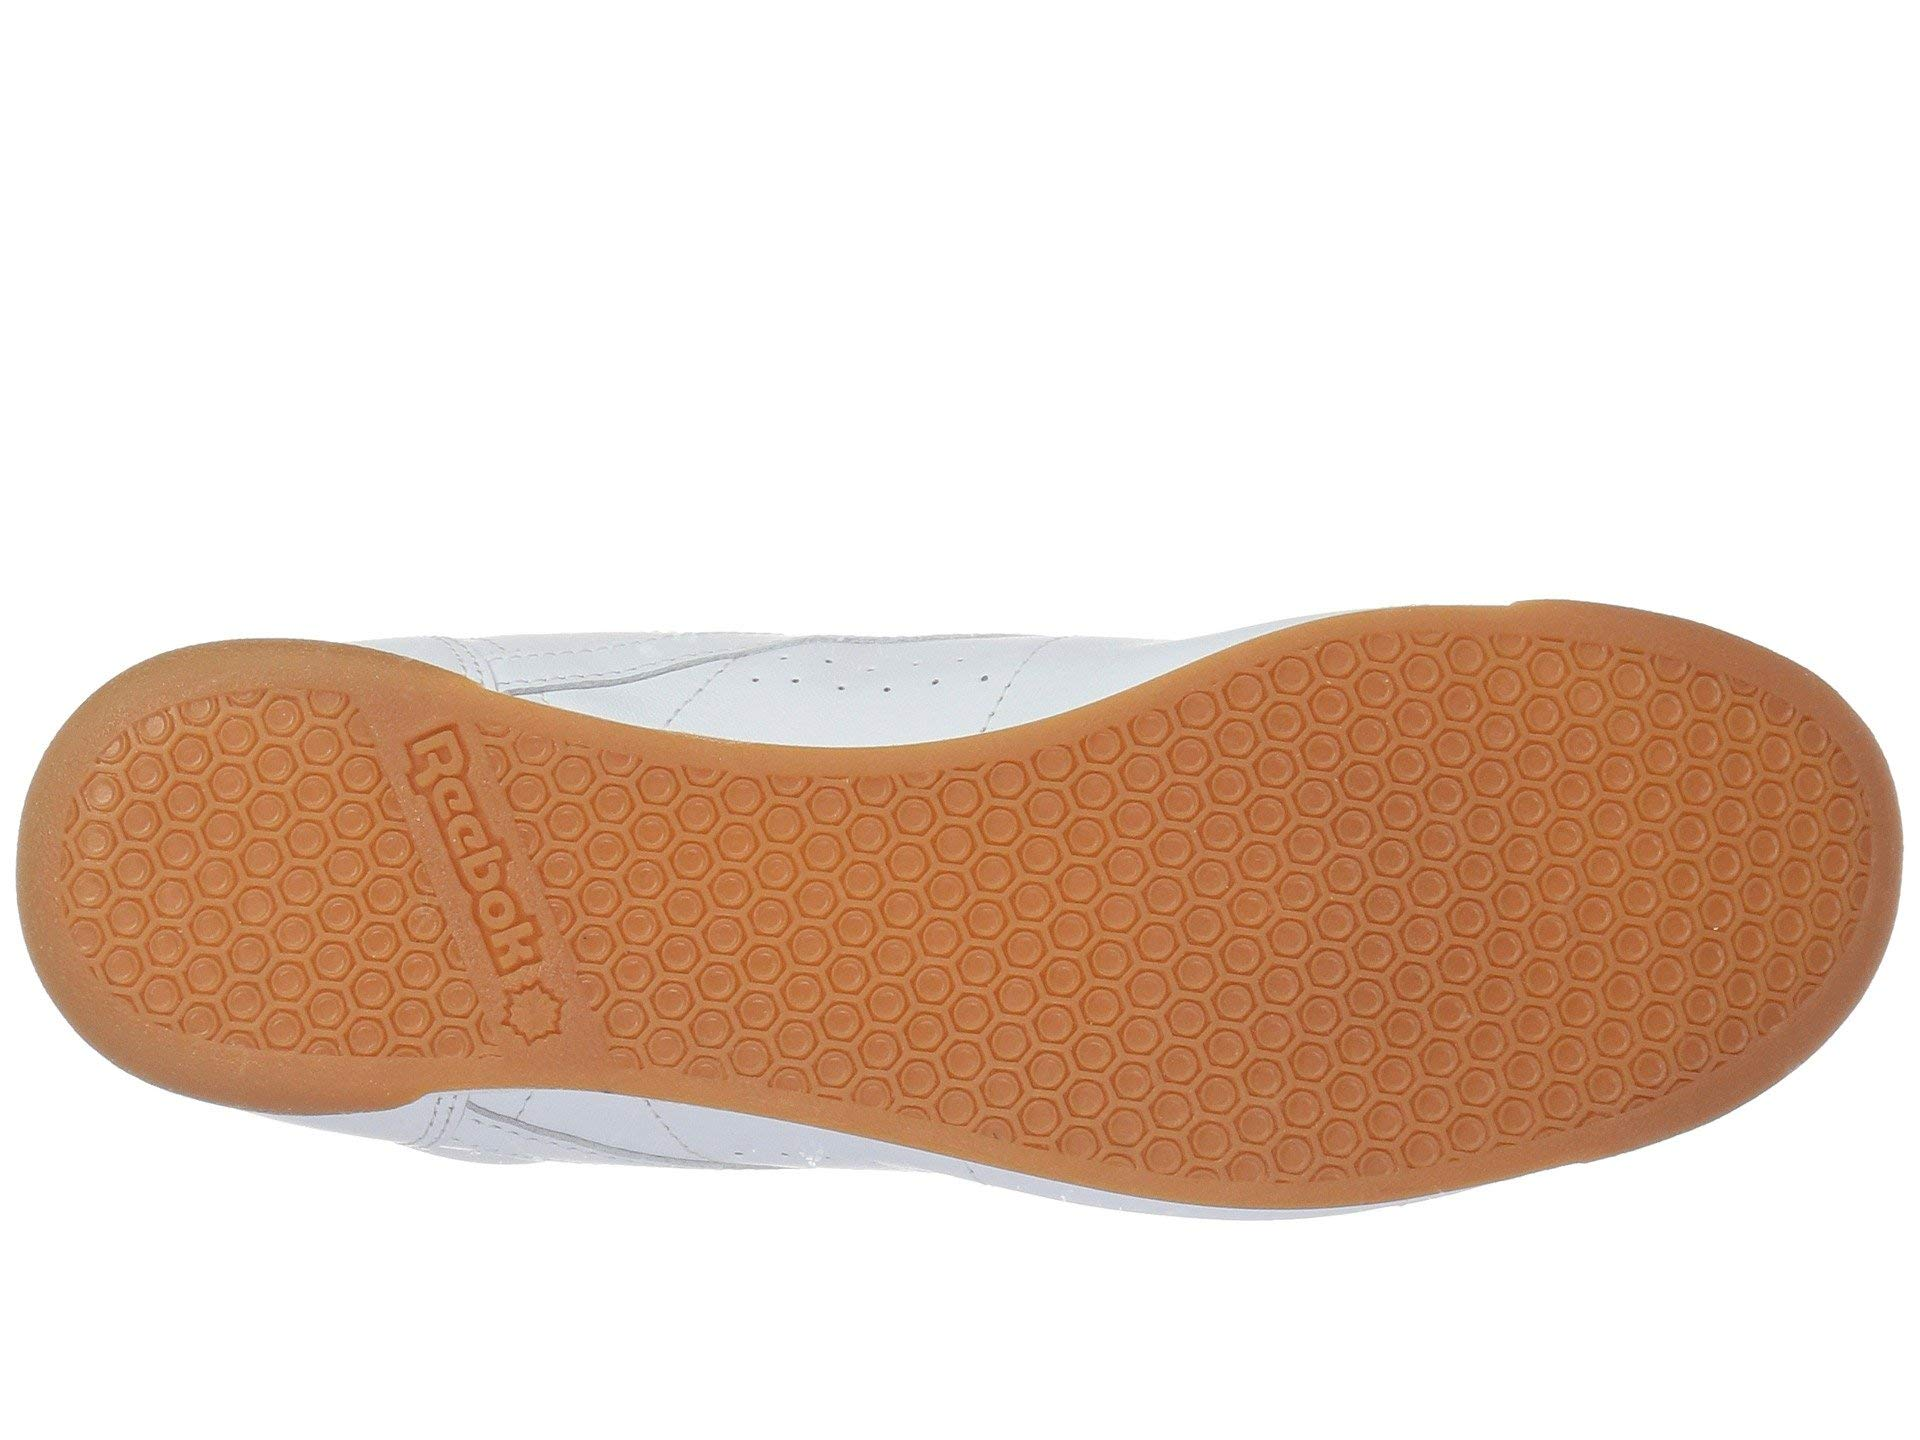circle: (671, 818, 931, 1041)
polygon: (671, 818, 931, 1041)
